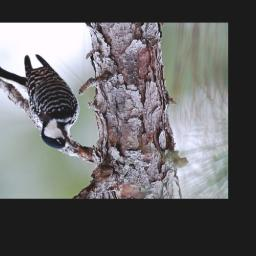Woodpecker: (0, 54, 83, 153)
